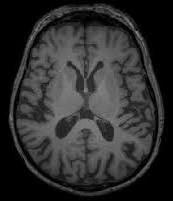Normal_Brain: (4, 1, 173, 201)
